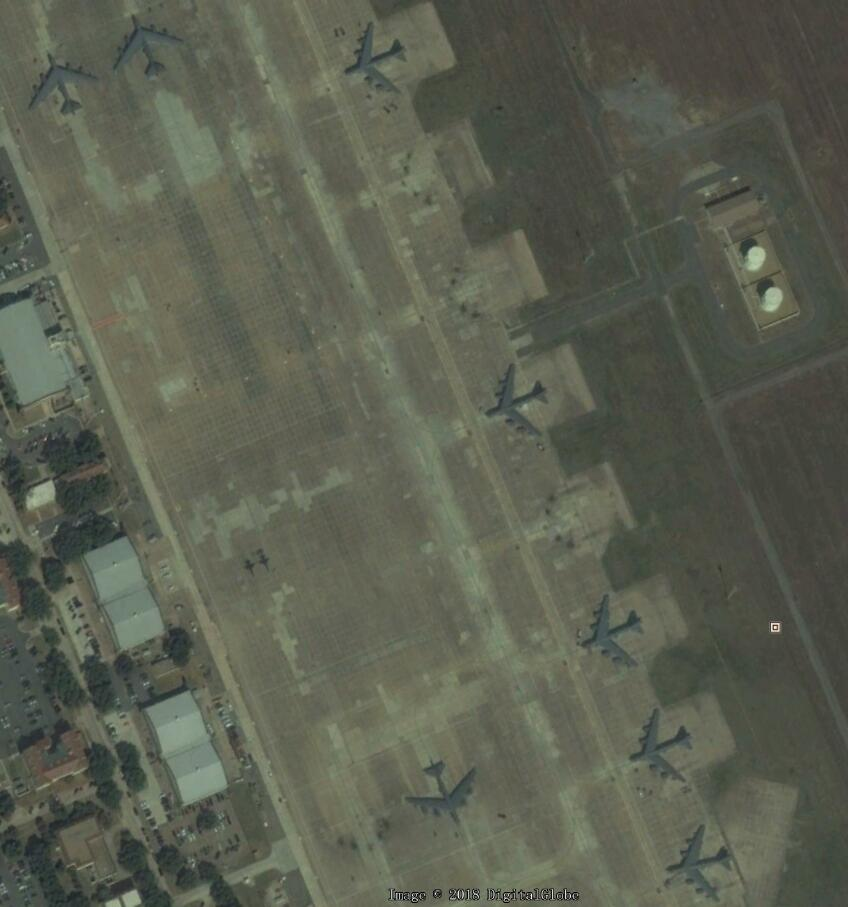A8: (402, 757, 482, 830), (625, 706, 695, 789), (664, 823, 734, 903), (577, 593, 646, 673), (341, 19, 409, 99), (485, 362, 551, 441), (28, 50, 100, 120), (113, 14, 185, 80)
